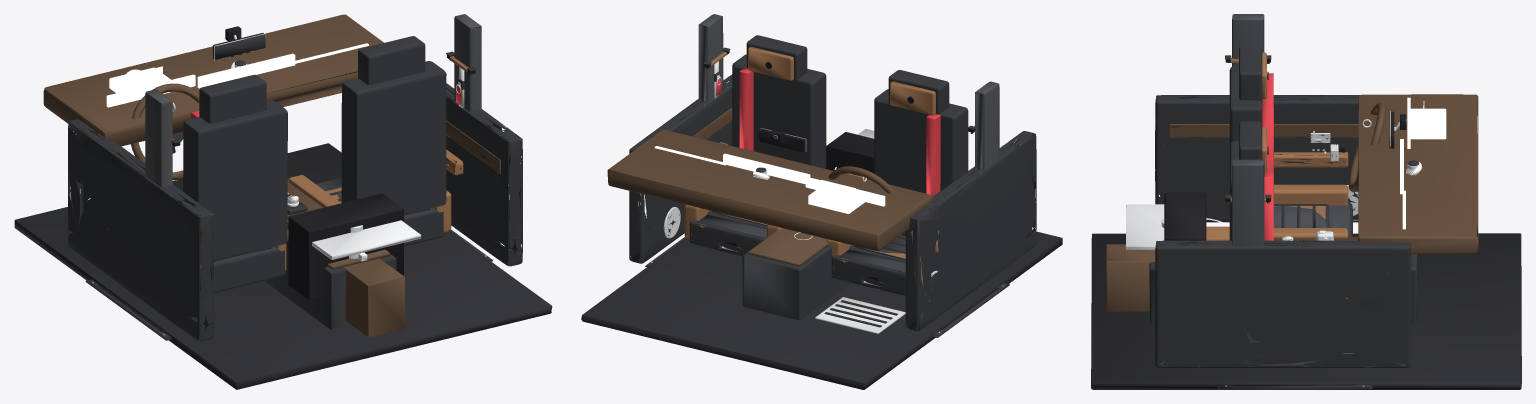
The model's file is cockpit_bespoke_atelier.glb.
3 renders of one model, left to right at view 1: azimuth 30°, elevation 25°; view 2: azimuth 150°, elevation 25°; view 3: azimuth 270°, elevation 25°, orthographic. The views are drawn at different scales.
Visible parts, largest first — view 1: Atelier_Floor_Carpet, Atelier_Door_L, Atelier_Dash_Upper_Cowl, Atelier_Passenger_Backrest, Atelier_Driver_Backrest, Atelier_Door_R, Atelier_VIP_Bar_Tray_BarCabinet, Atelier_VIP_Refrigerated_Bar_Cabinet, Atelier_Center_Console, Atelier_Driver_Headrest, Atelier_Passenger_Headrest, Atelier_BPillar_Trim_L (+11 smaller); view 2: Atelier_Floor_Carpet, Atelier_Dash_Upper_Cowl, Atelier_Door_L, Atelier_Driver_Backrest, Atelier_Passenger_Backrest, Atelier_Center_Console, Atelier_Door_R, Atelier_BPillar_Trim_L, Atelier_Console_Burl_Deck, Atelier_BPillar_Trim_R, Atelier_Driver_Thigh_Ext_CushionBody, Atelier_VIP_Bar_Tray_BarCabinet (+17 smaller); view 3: Atelier_Door_R, Atelier_Floor_Carpet, Atelier_Dash_Upper_Cowl, Atelier_Door_L, Atelier_BPillar_Trim_R, Atelier_VIP_Refrigerated_Bar_Cabinet, Atelier_VIP_Bar_Tray_BarCabinet, Atelier_Door_Burl_L, Atelier_VIP_Bar_Tray_TrayTable_ChromeRim, Atelier_Driver_Bolster_L, Atelier_Driver_Headrest, Atelier_Driver_Backrest (+14 smaller).
Part boxes in pixels (left/top/right/bottom): Atelier_Floor_Carpet: left=14, top=143, right=552, bottom=389; Atelier_Door_L: left=68, top=119, right=213, bottom=341; Atelier_Dash_Upper_Cowl: left=43, top=14, right=383, bottom=147; Atelier_Passenger_Backrest: left=341, top=61, right=446, bottom=214; Atelier_Driver_Backrest: left=183, top=99, right=287, bottom=261; Atelier_Door_R: left=446, top=83, right=522, bottom=266; Atelier_VIP_Bar_Tray_BarCabinet: left=288, top=193, right=403, bottom=300; Atelier_VIP_Refrigerated_Bar_Cabinet: left=343, top=258, right=405, bottom=337; Atelier_Center_Console: left=264, top=240, right=396, bottom=329; Atelier_Driver_Headrest: left=199, top=74, right=266, bottom=123; Atelier_Passenger_Headrest: left=358, top=36, right=425, bottom=84; Atelier_BPillar_Trim_L: left=145, top=89, right=172, bottom=196; Atelier_Floor_Carpet: left=581, top=230, right=1062, bottom=389; Atelier_Dash_Upper_Cowl: left=607, top=129, right=933, bottom=250; Atelier_Door_L: left=905, top=131, right=1036, bottom=330; Atelier_Driver_Backrest: left=874, top=89, right=968, bottom=193; Atelier_Passenger_Backrest: left=732, top=54, right=826, bottom=168; Atelier_Center_Console: left=742, top=245, right=851, bottom=320; Atelier_Door_R: left=629, top=74, right=732, bottom=263; Atelier_BPillar_Trim_L: left=975, top=81, right=999, bottom=177; Atelier_Console_Burl_Deck: left=748, top=228, right=828, bottom=266; Atelier_BPillar_Trim_R: left=698, top=14, right=723, bottom=110; Atelier_Driver_Thigh_Ext_CushionBody: left=831, top=252, right=905, bottom=295; Atelier_VIP_Bar_Tray_BarCabinet: left=826, top=132, right=874, bottom=179; Atelier_Door_R: left=1155, top=240, right=1411, bottom=368; Atelier_Floor_Carpet: left=1091, top=233, right=1521, bottom=389; Atelier_Dash_Upper_Cowl: left=1358, top=94, right=1478, bottom=253; Atelier_Door_L: left=1155, top=95, right=1359, bottom=222; Atelier_BPillar_Trim_R: left=1232, top=159, right=1264, bottom=343; Atelier_VIP_Refrigerated_Bar_Cabinet: left=1106, top=244, right=1155, bottom=311; Atelier_VIP_Bar_Tray_BarCabinet: left=1164, top=192, right=1206, bottom=240; Atelier_Door_Burl_L: left=1169, top=124, right=1358, bottom=137; Atelier_VIP_Bar_Tray_TrayTable_ChromeRim: left=1126, top=204, right=1164, bottom=249; Atelier_Driver_Bolster_L: left=1274, top=184, right=1348, bottom=205; Atelier_Driver_Headrest: left=1239, top=46, right=1262, bottom=101; Atelier_Driver_Backrest: left=1229, top=66, right=1262, bottom=144.
Size of the model in its own units: 1.57 by 1.07 by 1.85.
